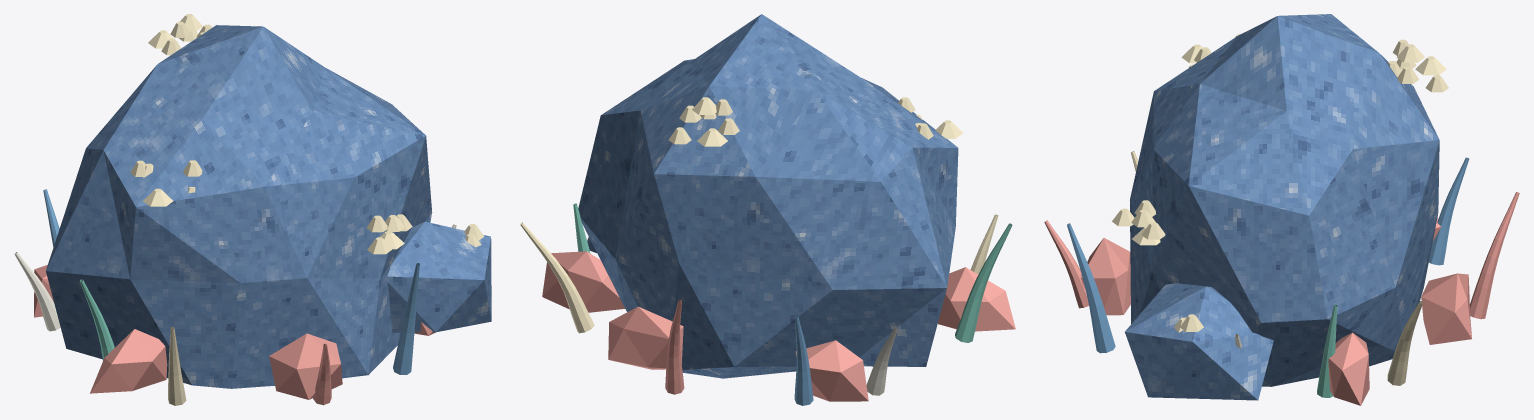
File: coast_boulder.glb
3 renders of one model, left to right at view 1: azimuth 30°, elevation 25°; view 2: azimuth 150°, elevation 25°; view 3: azimuth 270°, elevation 25°, orthographic. The views are drawn at different scales.
Parts seen in each view (by area): view 1: Boulder, WeedFoot, Strand, Barnacles; view 2: Boulder, WeedFoot, Strand, Barnacles; view 3: Boulder, WeedFoot, Strand, Barnacles.
Part boxes in pixels (<box>): Boulder: <box>46,25,491,388</box>; WeedFoot: <box>34,264,435,399</box>; Strand: <box>14,189,456,405</box>; Barnacles: <box>130,14,484,254</box>; Boulder: <box>578,14,958,378</box>; WeedFoot: <box>542,251,1015,401</box>; Strand: <box>520,203,1012,405</box>; Barnacles: <box>668,97,962,146</box>; Boulder: <box>1125,14,1439,400</box>; WeedFoot: <box>1081,217,1471,405</box>; Strand: <box>1044,151,1519,400</box>; Barnacles: <box>1112,34,1448,332</box>.
Size of the model in its own units: 3.43 by 2.57 by 3.41.
Materials: 13 (1 with a texture image).
